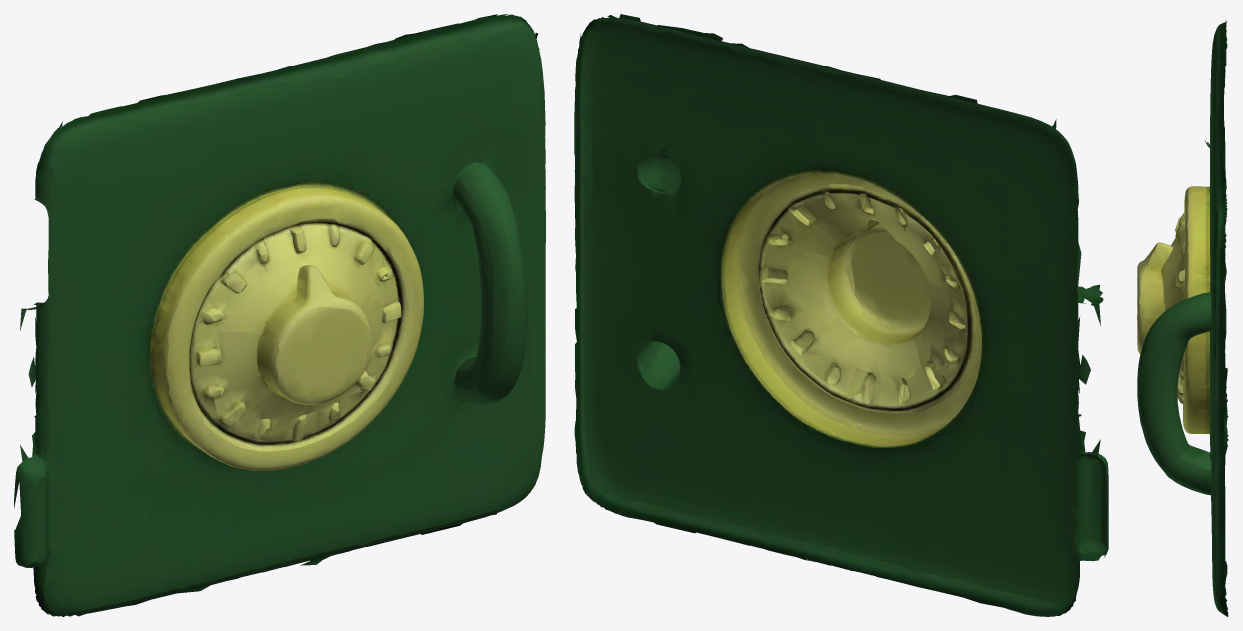
File: door.glb
The picture shows the model from 3 angles, left to right: view 1: azimuth 30°, elevation 25°; view 2: azimuth 150°, elevation 25°; view 3: azimuth 270°, elevation 25°; orthographic projection. The views are drawn at different scales.
Parts seen in each view (by area): view 1: geometry_0; view 2: geometry_0; view 3: geometry_0.
Boxes of the visible parts, x1,y1,x2,y2 form: geometry_0: (14, 14, 545, 616); geometry_0: (574, 14, 1108, 616); geometry_0: (1137, 20, 1228, 616).
Size of the model in its own units: 0.2542 by 0.2314 by 0.0452.
1 material, 1 textured.
